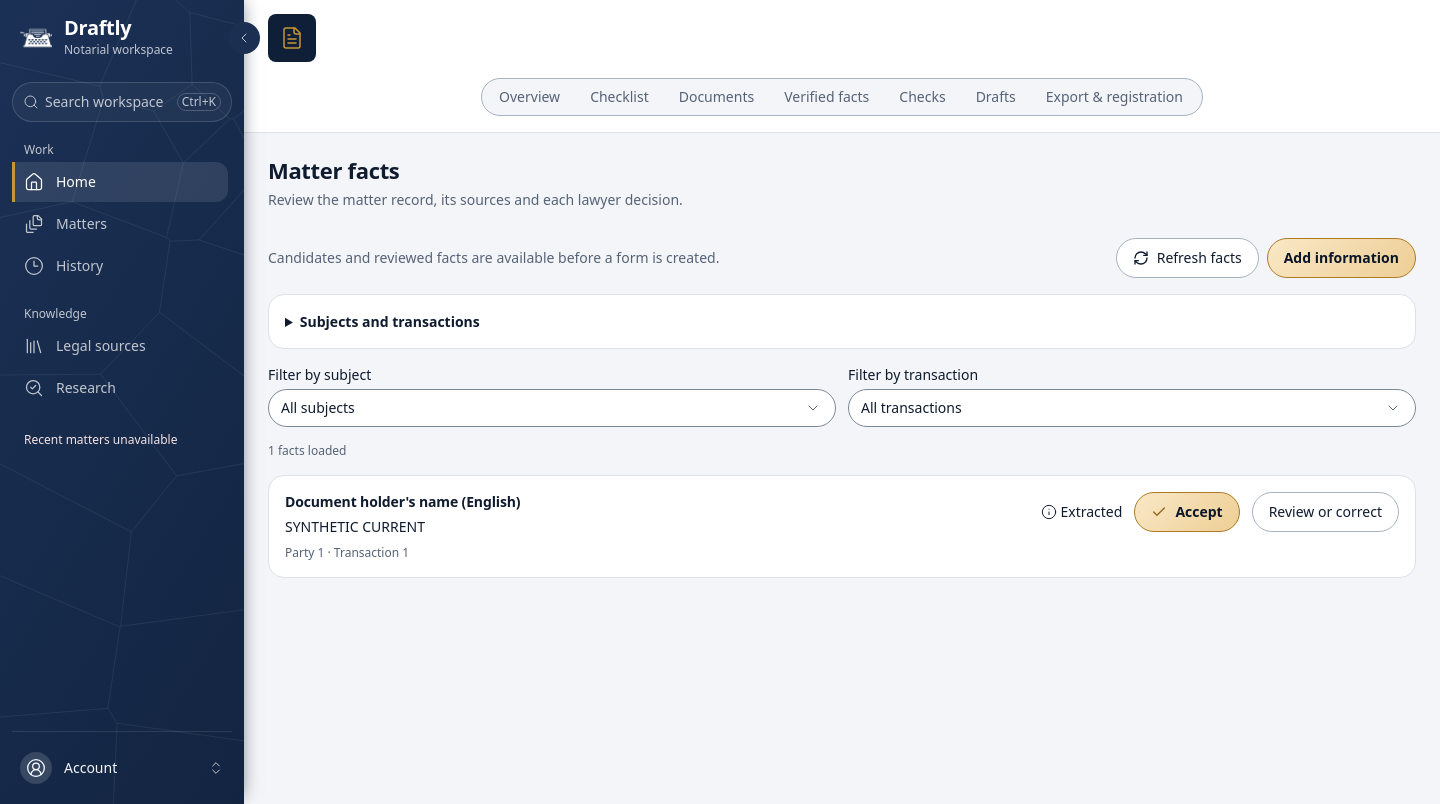
Test: canonical register › opens detailed review on a refused quick acceptance without showing confirmation
Click the button "Accept" at (1187, 512), box [1134,492,1240,532]
(page scrolled)
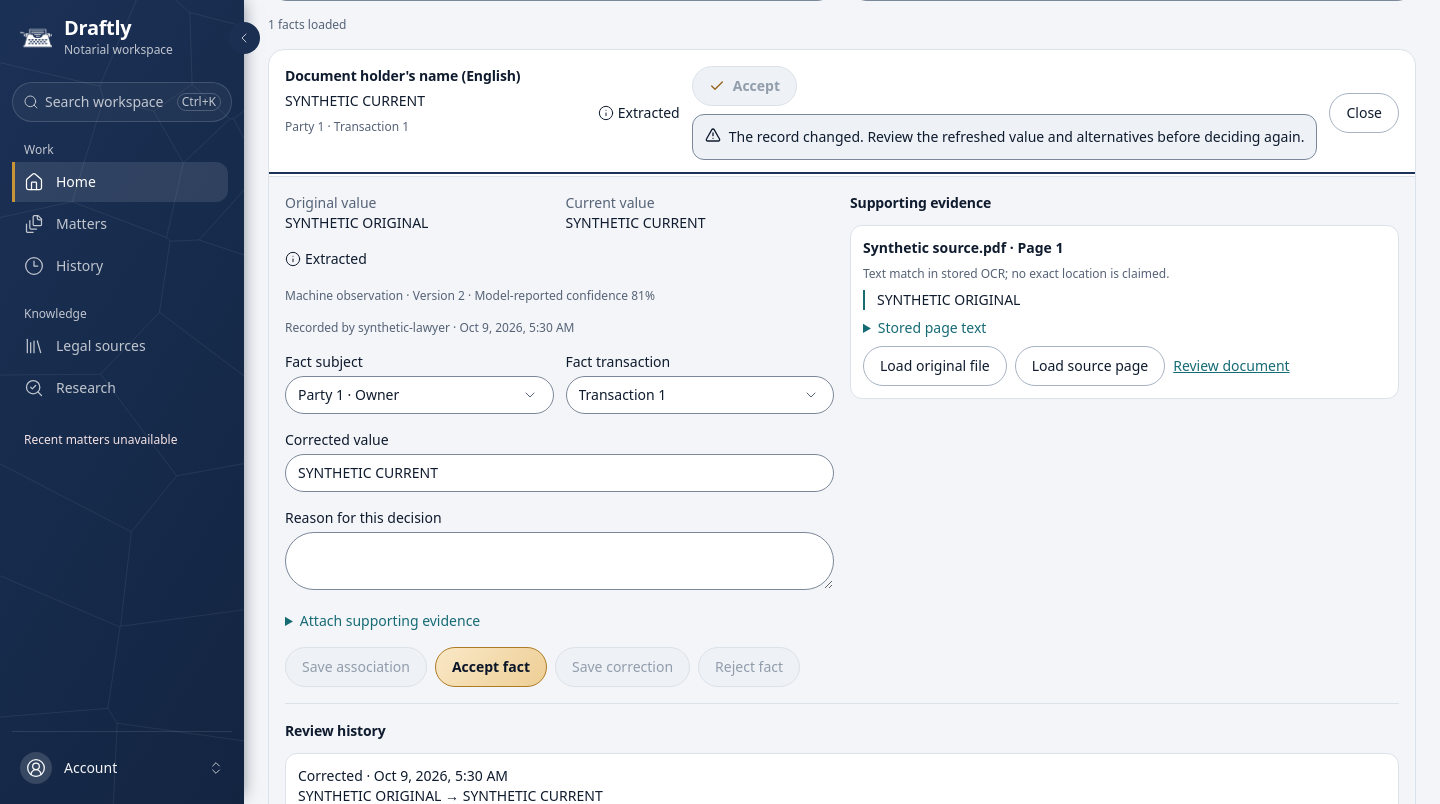
Check: the text box labelled "Reason for this decision" is shown, box [285,532,834,590]
Check: the text "The record changed. Review the refreshed value and alternatives before deciding again." is shown, box [729,126,1304,146]
Check: the message is shown, box [692,114,1317,160]
